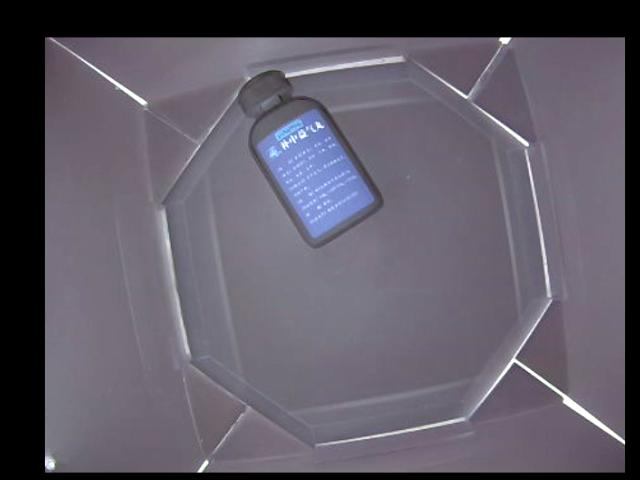Bottle: (238, 68, 382, 246)
